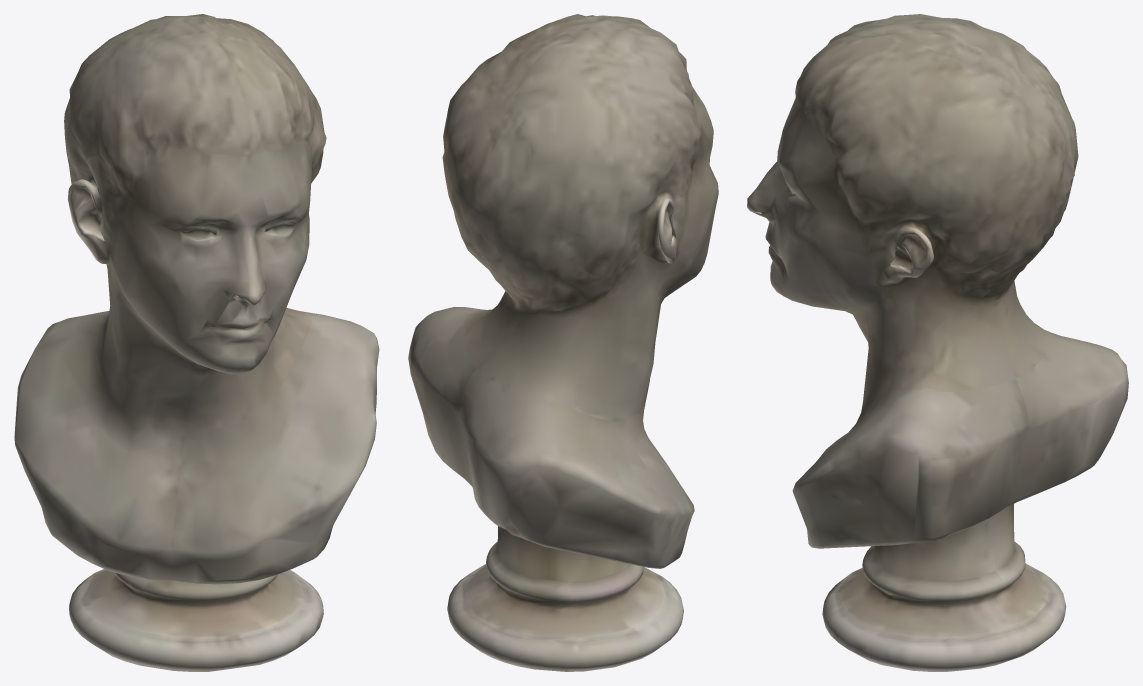
The model's file is design-marble-bust-01.glb.
3 views of the same model, side by side, from view 1: azimuth 30°, elevation 25°; view 2: azimuth 150°, elevation 25°; view 3: azimuth 270°, elevation 25° (orthographic). The views are drawn at different scales.
Parts seen in each view (by area): view 1: marble_bust_01; view 2: marble_bust_01; view 3: marble_bust_01.
Part boxes in pixels (bbox=[...]): marble_bust_01: bbox=[14, 14, 379, 671]; marble_bust_01: bbox=[408, 14, 718, 671]; marble_bust_01: bbox=[747, 14, 1128, 671].
Size of the model in its own units: 0.2718 by 0.5148 by 0.2992.
1 material, 1 textured.
